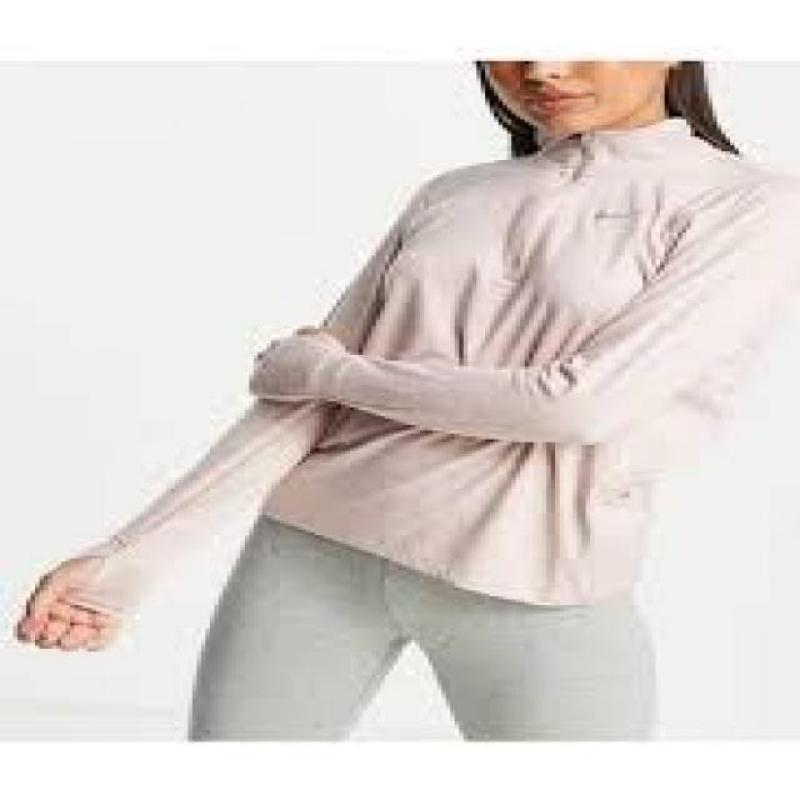sweater: (68, 119, 798, 613)
trousers: (184, 511, 659, 747)
